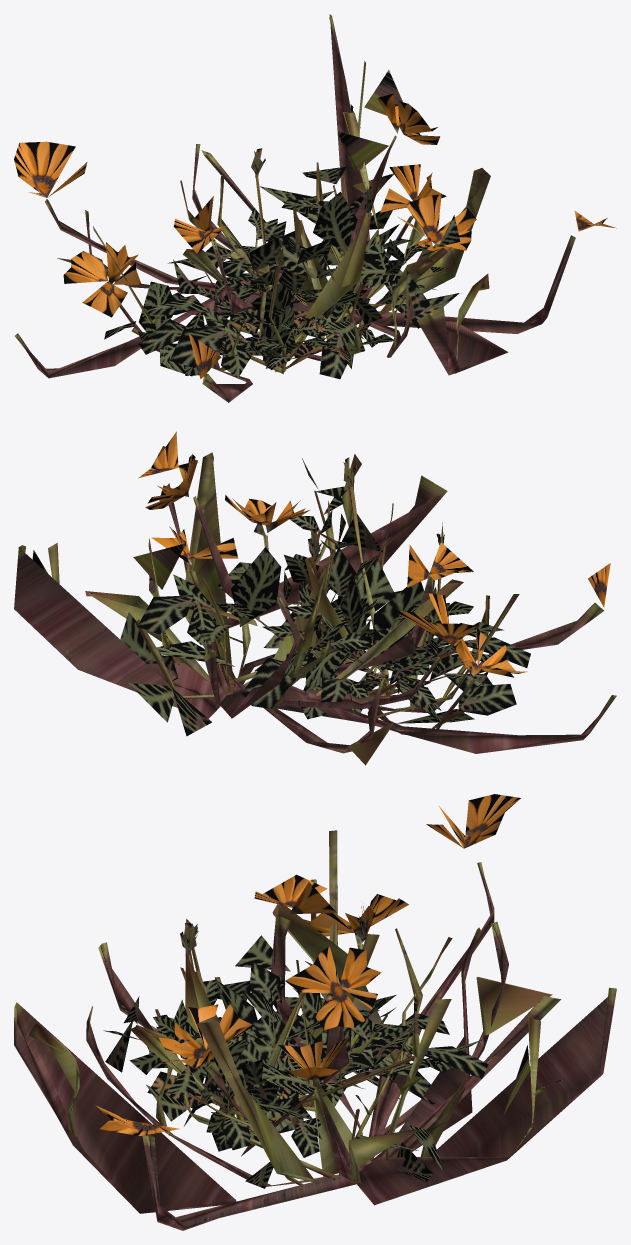
The model's file is ph_flower_ursinia.glb.
3 views of the same model, one above another, from view 1: azimuth 30°, elevation 25°; view 2: azimuth 150°, elevation 25°; view 3: azimuth 270°, elevation 25° (orthographic). The views are drawn at different scales.
Parts seen in each view (by area): view 1: v2, v0, v1, v3, v4; view 2: v0, v2, v1, v3, v4; view 3: v0, v2, v1, v3, v4.
Part boxes in pixels (x1,y1,x2,y2): v2: (63,93,476,377); v0: (14,14,616,402); v1: (14,141,459,357); v3: (138,148,429,375); v4: (147,208,377,379); v0: (14,431,616,765); v2: (137,454,530,734); v1: (120,501,503,736); v3: (242,457,492,719); v4: (254,605,476,712); v0: (14,830,616,1230); v2: (103,894,488,1156); v1: (86,794,560,1188); v3: (153,906,435,1150); v4: (147,974,449,1157).
Bounding box in the file's own units: 0.374 × 0.158 × 0.3106.
Materials: 1 (1 with a texture image).
